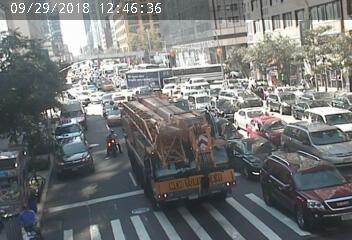car: (133, 102, 189, 182), (274, 156, 328, 207), (293, 129, 335, 157), (242, 137, 271, 159), (123, 71, 176, 80), (59, 100, 84, 118), (64, 148, 85, 167), (255, 119, 279, 135), (237, 109, 263, 123), (277, 90, 295, 107), (219, 84, 243, 96), (310, 110, 335, 121), (296, 98, 317, 111), (190, 93, 208, 104), (57, 128, 78, 137), (106, 105, 117, 119), (99, 77, 112, 87), (115, 93, 126, 102), (178, 91, 190, 98), (89, 95, 101, 99), (191, 79, 201, 83), (164, 82, 171, 87)
